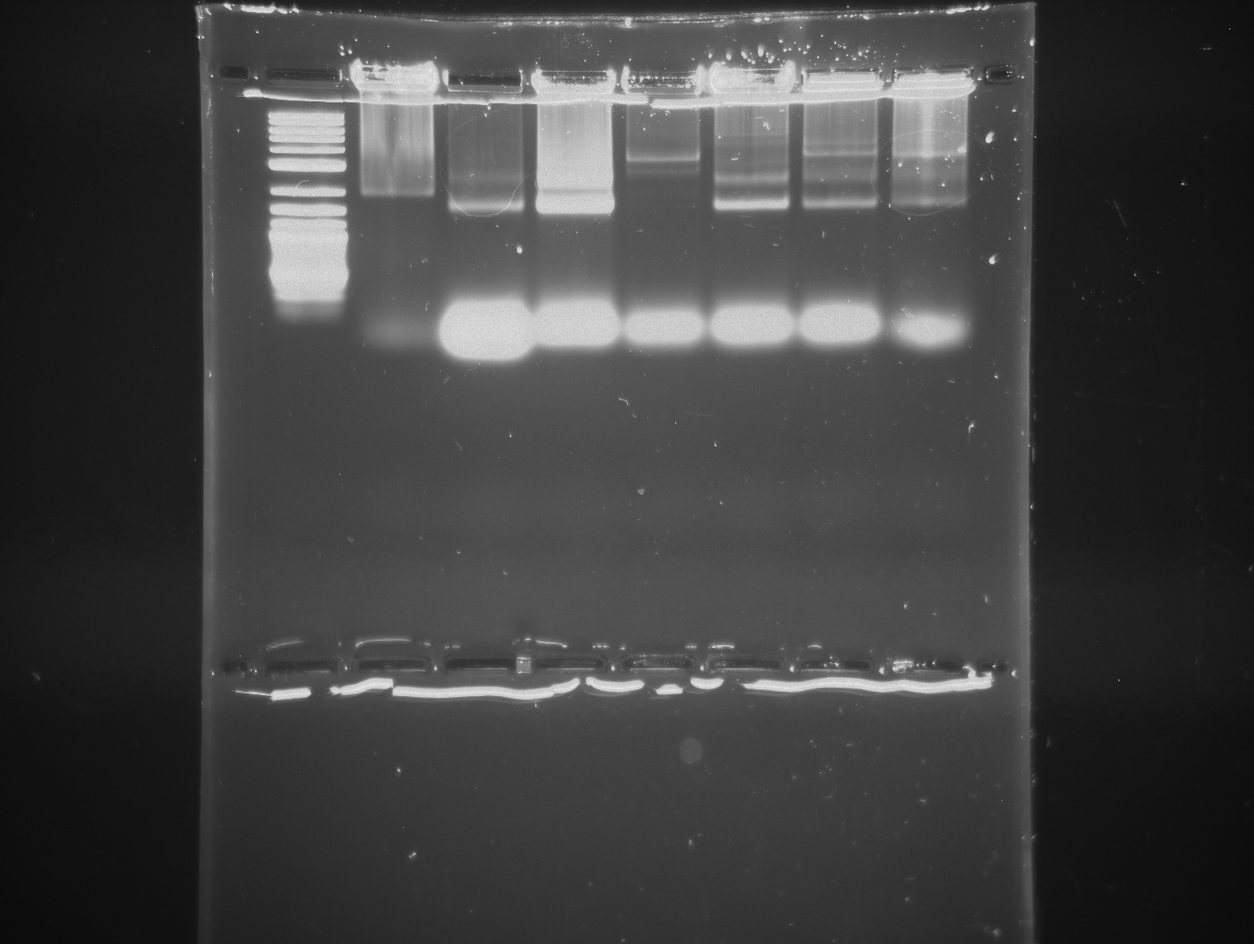Lane: (887, 30, 975, 944), (710, 39, 799, 901), (355, 32, 440, 906), (801, 25, 883, 913), (447, 37, 527, 879), (622, 35, 697, 931), (537, 35, 612, 791)
ladder: (265, 28, 342, 871)
